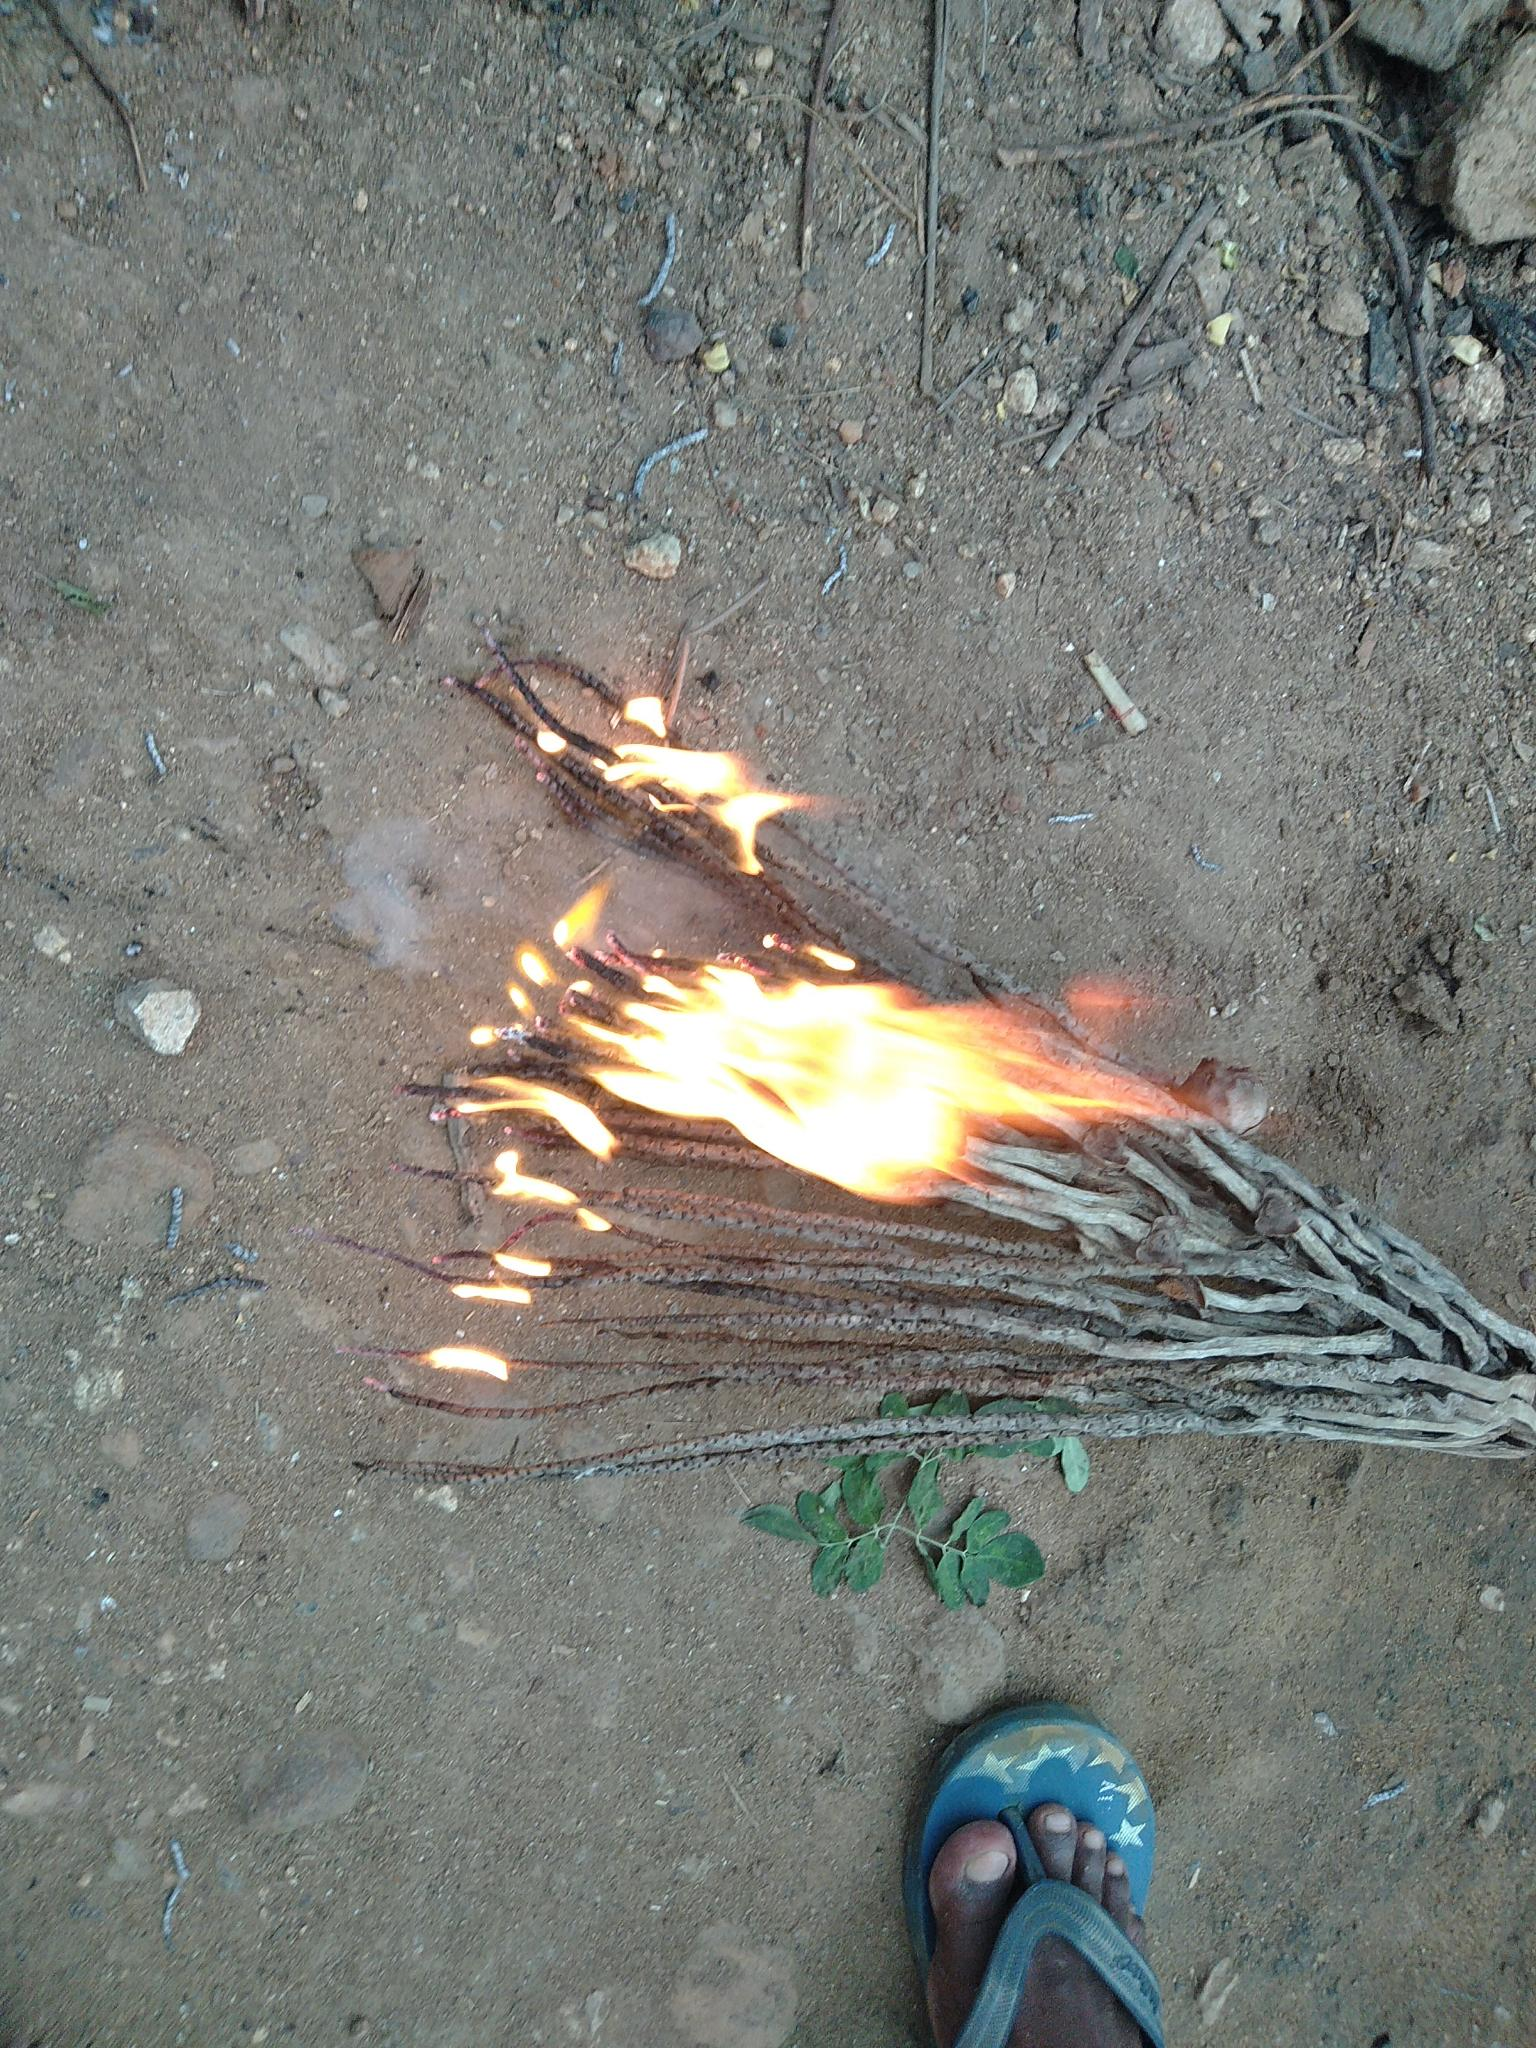Fire: (450, 969, 1229, 1195), (523, 679, 810, 877)
